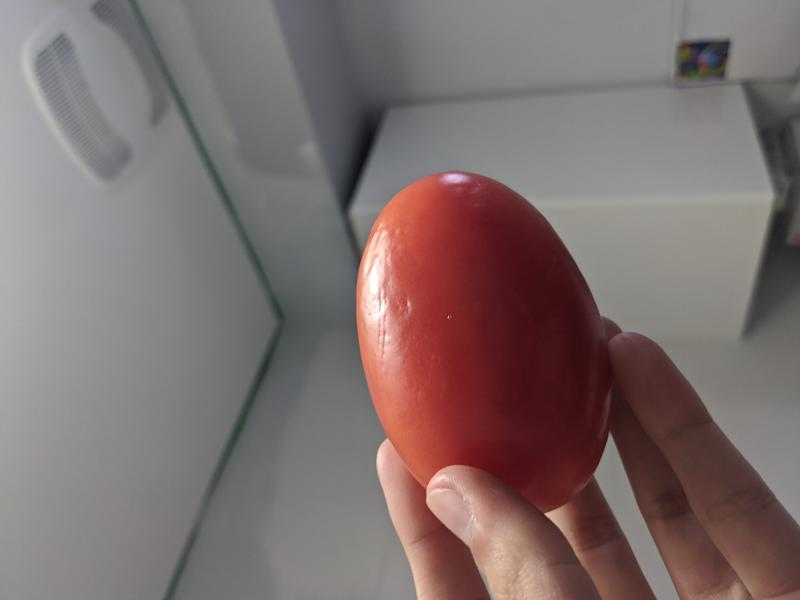tomato: (353, 171, 615, 515)
